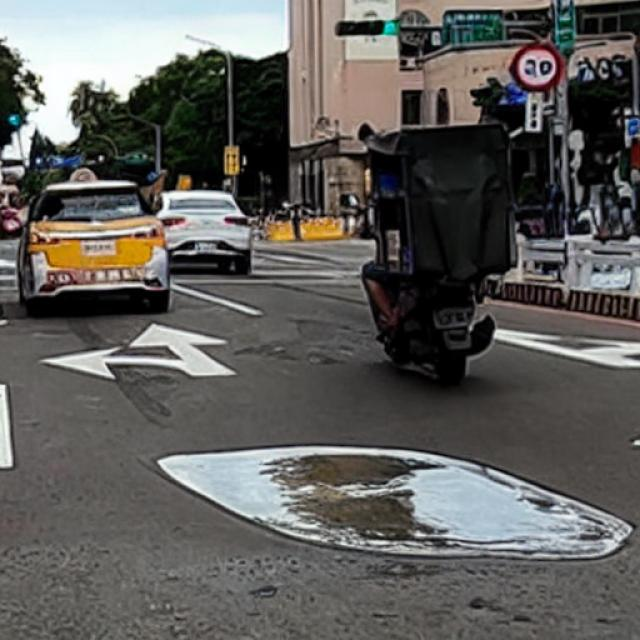puddle: (157, 448, 635, 564)
